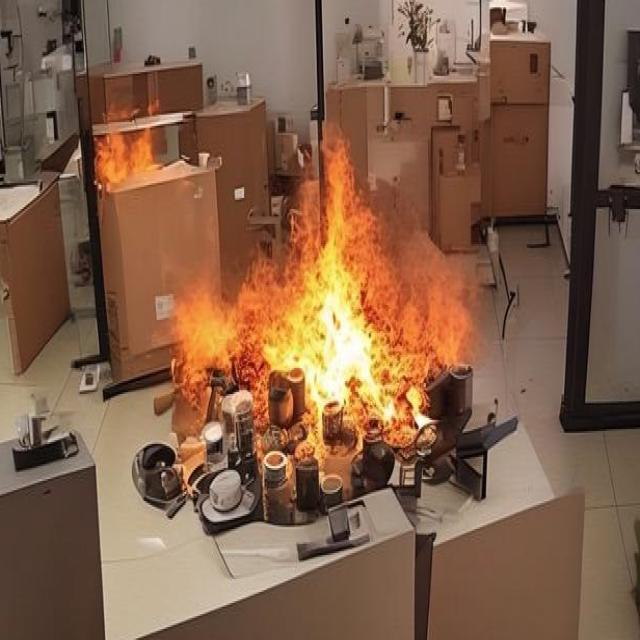smoke: (189, 136, 447, 452), (94, 113, 160, 196)
